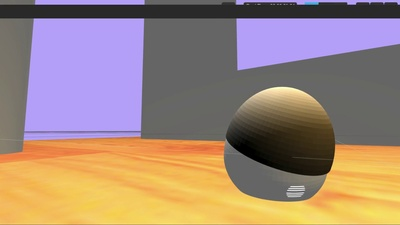mira_robot: (224, 86, 335, 202)
